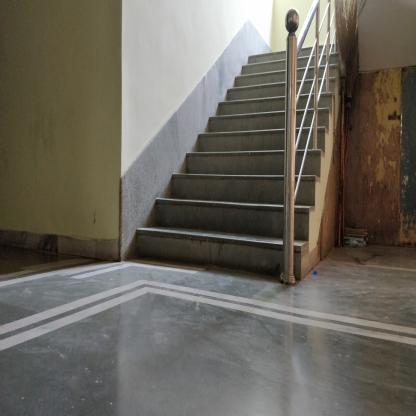stairs: (211, 112, 280, 283)
